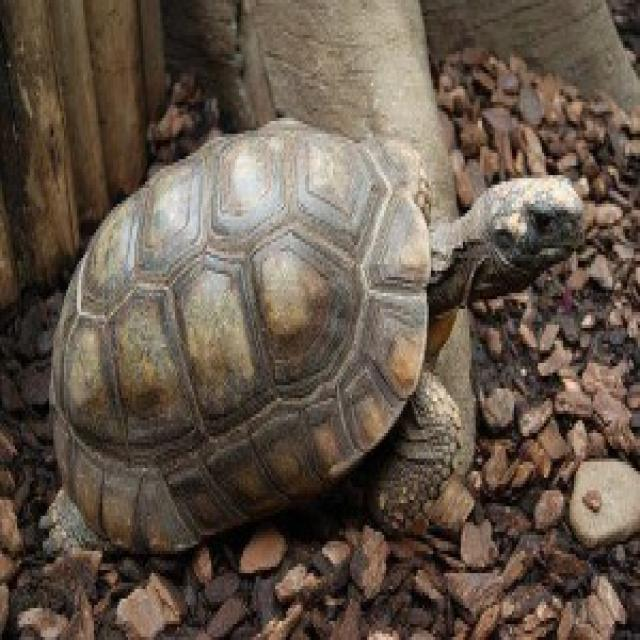Sea turtle: (0, 122, 640, 560)
